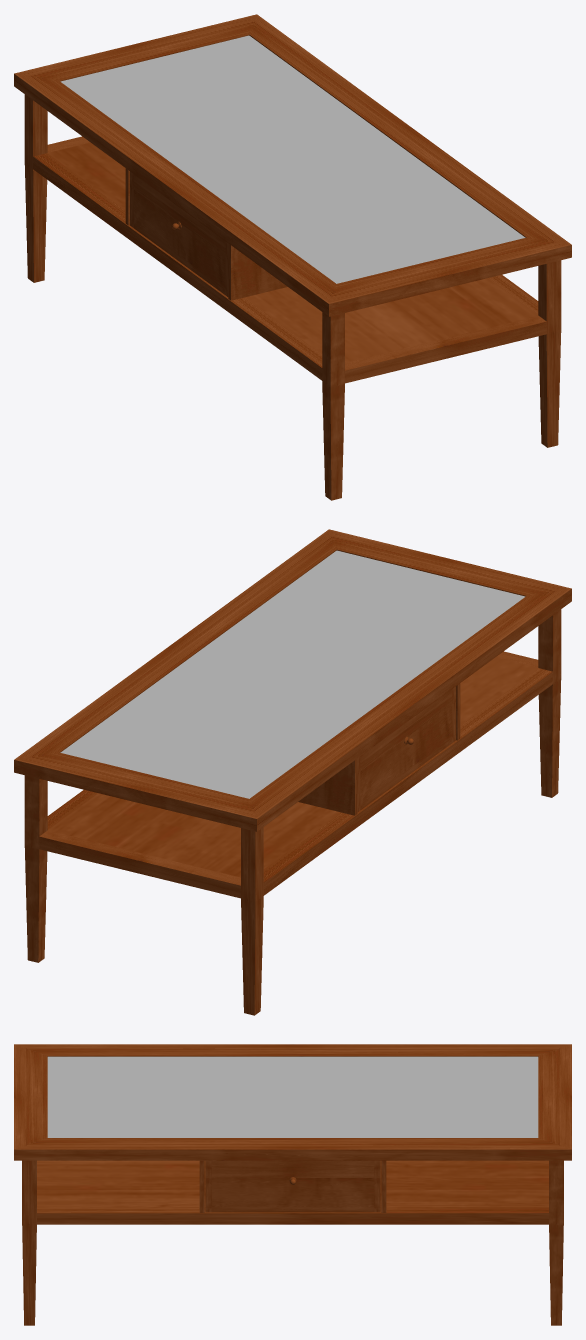
The model's file is sweethome3d-scopia-coffee-table-32.glb.
The picture shows the model from 3 angles, top to bottom: view 1: azimuth 30°, elevation 25°; view 2: azimuth 150°, elevation 25°; view 3: azimuth 270°, elevation 25°; orthographic projection. The views are drawn at different scales.
Visible parts, largest first — view 1: table2_Cube.001, glass2_Cube; view 2: table2_Cube.001, glass2_Cube; view 3: table2_Cube.001, glass2_Cube.
Boxes of the visible parts, box(x1,y1,x2,y2) form: table2_Cube.001: box(14, 14, 571, 500); glass2_Cube: box(60, 35, 525, 283); table2_Cube.001: box(14, 529, 571, 1015); glass2_Cube: box(60, 550, 525, 798); table2_Cube.001: box(14, 1044, 571, 1325); glass2_Cube: box(47, 1056, 538, 1137).
Bounding box in the file's own units: 0.6416 × 0.5113 × 1.44.
2 materials, 1 textured.
